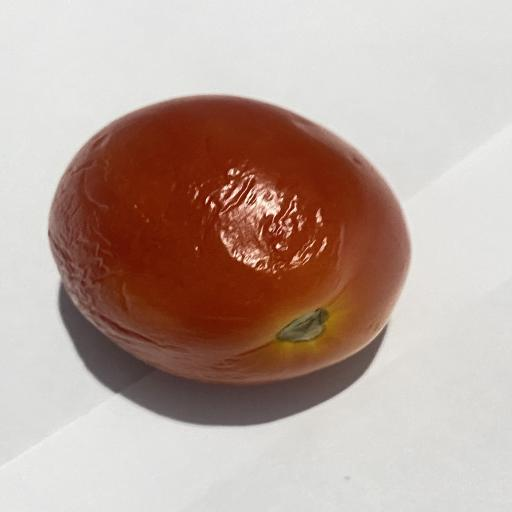spoiled: (49, 96, 410, 384)
